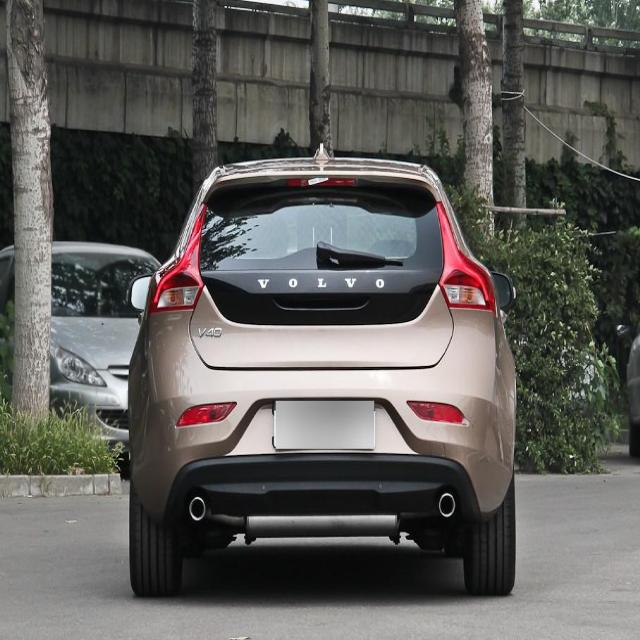back_glass: (198, 181, 440, 276)
back_left_side_light: (150, 201, 207, 313)
back_right_side_light: (437, 199, 498, 310)
front_left_side_mirror: (126, 270, 155, 318)
front_right_side_mirror: (486, 265, 520, 309)
rear_bumper: (130, 319, 518, 532)
wheel: (129, 494, 180, 591), (466, 501, 516, 591)
